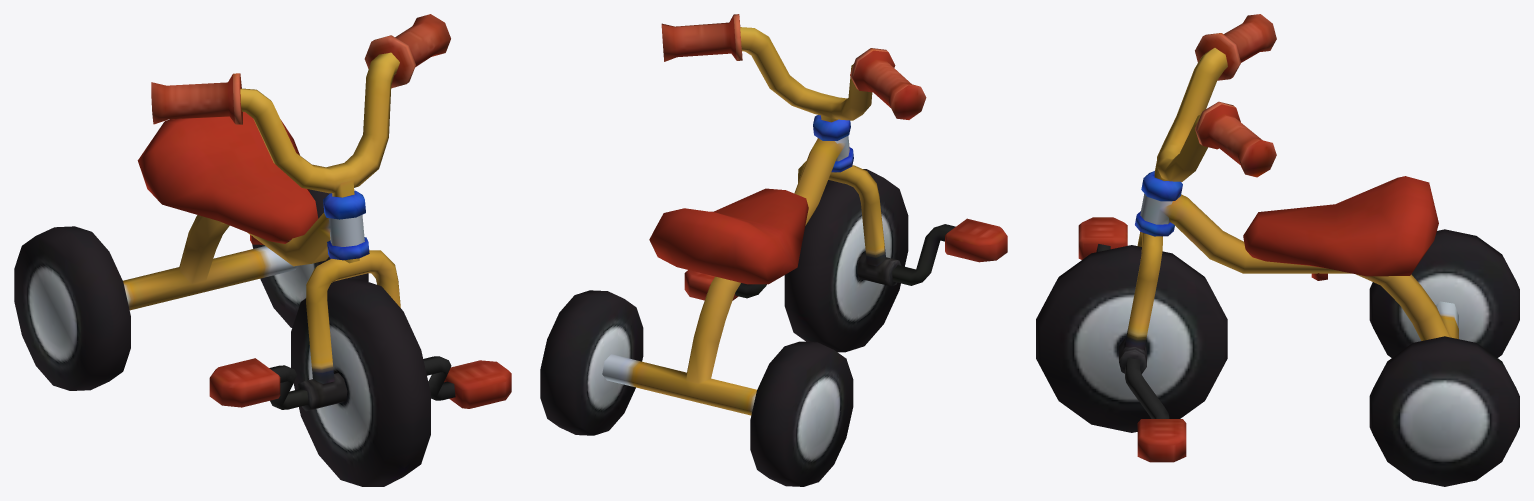
3 views of the same model, side by side, from view 1: azimuth 30°, elevation 25°; view 2: azimuth 150°, elevation 25°; view 3: azimuth 270°, elevation 25° (orthographic). The views are drawn at different scales.
Bounding box in the file's own units: 6.94 × 8.05 × 9.8.
1 material, 1 textured.
